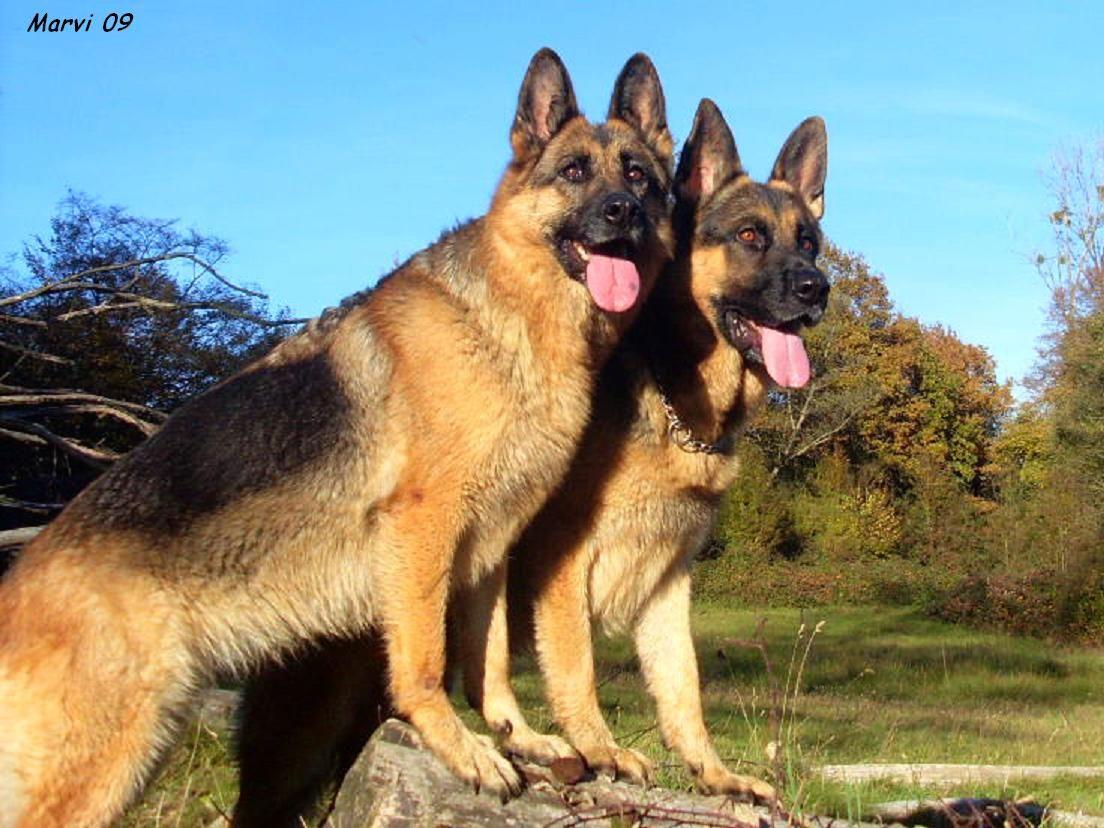german_shepherd: (665, 120, 864, 385), (503, 79, 694, 313)
